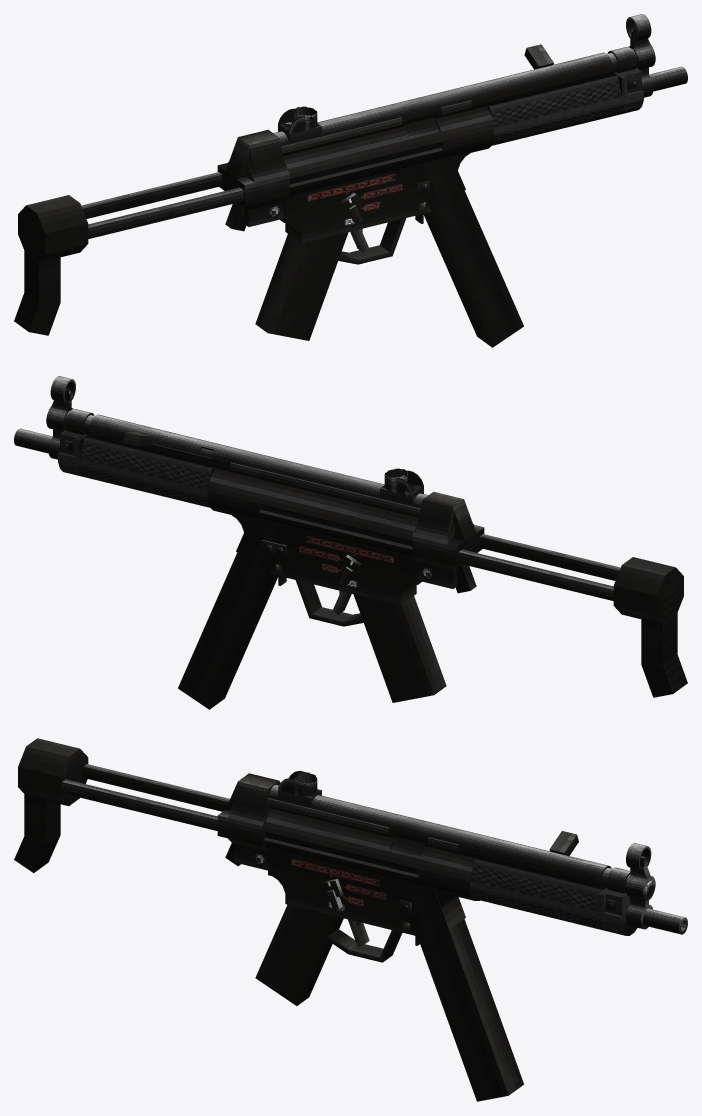
3 views of the same model, one above another, from view 1: azimuth 30°, elevation 25°; view 2: azimuth 150°, elevation 25°; view 3: azimuth 330°, elevation 25° (orthographic).
Parts seen in each view (by area): view 1: a1ddbd65-450c-36aa-62e6-c405b50d685a, 9052aec0-f761-30ba-4c48-ed0a0aceab72, 3ae8c1fa-759e-8ccd-ef49-2c9e0a1d58dd, 670c8742-5132-663e-234a-f2995ca5ac70, 61bae169-661f-84e5-51e2-d23ce0318c91, b950bb6c-7740-805e-2bfb-6b404d0844f7, 1d738c8a-46bc-cfeb-f32d-07f6f52558be, 1a427fb3-3f1b-7fe8-286e-b04cc1968736, f2ca6e4c-e8c2-b0a9-7eca-1816f76f25ff, 9b38358b-90c7-5022-43a5-cde9fc7dfac7, cd8de020-aee5-f95e-c6cc-27d3f3da9e9a, fedd9753-b58b-4a00-e0f4-1eacee9a5228 (+24 smaller); view 2: a1ddbd65-450c-36aa-62e6-c405b50d685a, 9052aec0-f761-30ba-4c48-ed0a0aceab72, 3ae8c1fa-759e-8ccd-ef49-2c9e0a1d58dd, 1cfdfd1f-ec3f-cf39-4fb2-48631d29096b, 1a427fb3-3f1b-7fe8-286e-b04cc1968736, b950bb6c-7740-805e-2bfb-6b404d0844f7, f2ca6e4c-e8c2-b0a9-7eca-1816f76f25ff, 61bae169-661f-84e5-51e2-d23ce0318c91, c4279a75-c1a2-58c4-d951-9f65428bf601, 1d738c8a-46bc-cfeb-f32d-07f6f52558be, 9b38358b-90c7-5022-43a5-cde9fc7dfac7, ea145753-dbb2-2721-1e17-869d4d88e2b5 (+25 smaller); view 3: a1ddbd65-450c-36aa-62e6-c405b50d685a, 9052aec0-f761-30ba-4c48-ed0a0aceab72, 3ae8c1fa-759e-8ccd-ef49-2c9e0a1d58dd, 670c8742-5132-663e-234a-f2995ca5ac70, 61bae169-661f-84e5-51e2-d23ce0318c91, 1a427fb3-3f1b-7fe8-286e-b04cc1968736, 1d738c8a-46bc-cfeb-f32d-07f6f52558be, 9b38358b-90c7-5022-43a5-cde9fc7dfac7, f2ca6e4c-e8c2-b0a9-7eca-1816f76f25ff, cd8de020-aee5-f95e-c6cc-27d3f3da9e9a, fedd9753-b58b-4a00-e0f4-1eacee9a5228, b950bb6c-7740-805e-2bfb-6b404d0844f7 (+19 smaller).
Boxes of the visible parts, box(x1,y1,x2,y2) form: a1ddbd65-450c-36aa-62e6-c405b50d685a: box(423, 191, 523, 347); 9052aec0-f761-30ba-4c48-ed0a0aceab72: box(255, 232, 348, 340); 3ae8c1fa-759e-8ccd-ef49-2c9e0a1d58dd: box(285, 166, 431, 243); 670c8742-5132-663e-234a-f2995ca5ac70: box(487, 75, 621, 127); 61bae169-661f-84e5-51e2-d23ce0318c91: box(88, 187, 243, 238); b950bb6c-7740-805e-2bfb-6b404d0844f7: box(24, 209, 60, 307); 1d738c8a-46bc-cfeb-f32d-07f6f52558be: box(288, 119, 494, 178); 1a427fb3-3f1b-7fe8-286e-b04cc1968736: box(81, 172, 222, 218); f2ca6e4c-e8c2-b0a9-7eca-1816f76f25ff: box(289, 138, 494, 193); 9b38358b-90c7-5022-43a5-cde9fc7dfac7: box(412, 156, 465, 212); cd8de020-aee5-f95e-c6cc-27d3f3da9e9a: box(279, 58, 611, 142); fedd9753-b58b-4a00-e0f4-1eacee9a5228: box(280, 62, 612, 146); a1ddbd65-450c-36aa-62e6-c405b50d685a: box(178, 553, 278, 709); 9052aec0-f761-30ba-4c48-ed0a0aceab72: box(353, 594, 446, 702); 3ae8c1fa-759e-8ccd-ef49-2c9e0a1d58dd: box(270, 528, 416, 605); 1cfdfd1f-ec3f-cf39-4fb2-48631d29096b: box(80, 437, 214, 489); 1a427fb3-3f1b-7fe8-286e-b04cc1968736: box(458, 549, 613, 600); b950bb6c-7740-805e-2bfb-6b404d0844f7: box(641, 571, 677, 669); f2ca6e4c-e8c2-b0a9-7eca-1816f76f25ff: box(207, 481, 413, 540); 61bae169-661f-84e5-51e2-d23ce0318c91: box(479, 534, 620, 580); c4279a75-c1a2-58c4-d951-9f65428bf601: box(209, 472, 417, 530); 1d738c8a-46bc-cfeb-f32d-07f6f52558be: box(207, 500, 412, 555); 9b38358b-90c7-5022-43a5-cde9fc7dfac7: box(236, 518, 289, 574); ea145753-dbb2-2721-1e17-869d4d88e2b5: box(412, 525, 484, 567); a1ddbd65-450c-36aa-62e6-c405b50d685a: box(417, 919, 523, 1101); 9052aec0-f761-30ba-4c48-ed0a0aceab72: box(255, 904, 343, 1005); 3ae8c1fa-759e-8ccd-ef49-2c9e0a1d58dd: box(285, 854, 414, 935); 670c8742-5132-663e-234a-f2995ca5ac70: box(470, 859, 602, 911); 61bae169-661f-84e5-51e2-d23ce0318c91: box(62, 779, 217, 830); 1a427fb3-3f1b-7fe8-286e-b04cc1968736: box(83, 764, 229, 811); 1d738c8a-46bc-cfeb-f32d-07f6f52558be: box(264, 822, 471, 881); 9b38358b-90c7-5022-43a5-cde9fc7dfac7: box(395, 880, 465, 936); f2ca6e4c-e8c2-b0a9-7eca-1816f76f25ff: box(264, 837, 471, 897); cd8de020-aee5-f95e-c6cc-27d3f3da9e9a: box(269, 790, 603, 875); fedd9753-b58b-4a00-e0f4-1eacee9a5228: box(268, 794, 601, 880); b950bb6c-7740-805e-2bfb-6b404d0844f7: box(24, 794, 60, 845).
Bounding box in the file's own units: 1.93 × 0.8024 × 0.1687.
5 materials, 5 textured.
